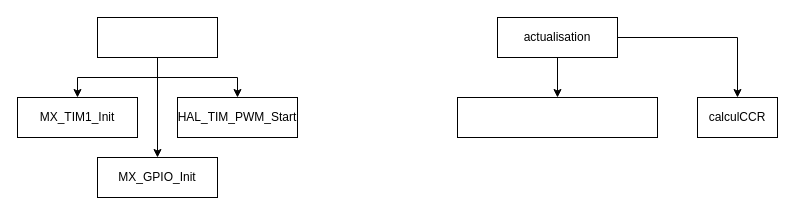
Some shapes in this 795 by 215 pixel diagram are drawn without their labels. Each missing label, with the centre of its shape:
"__HAL_TIM_SET_COMPARE" goes at point (557, 117).
"Intialisation" goes at point (157, 37).
